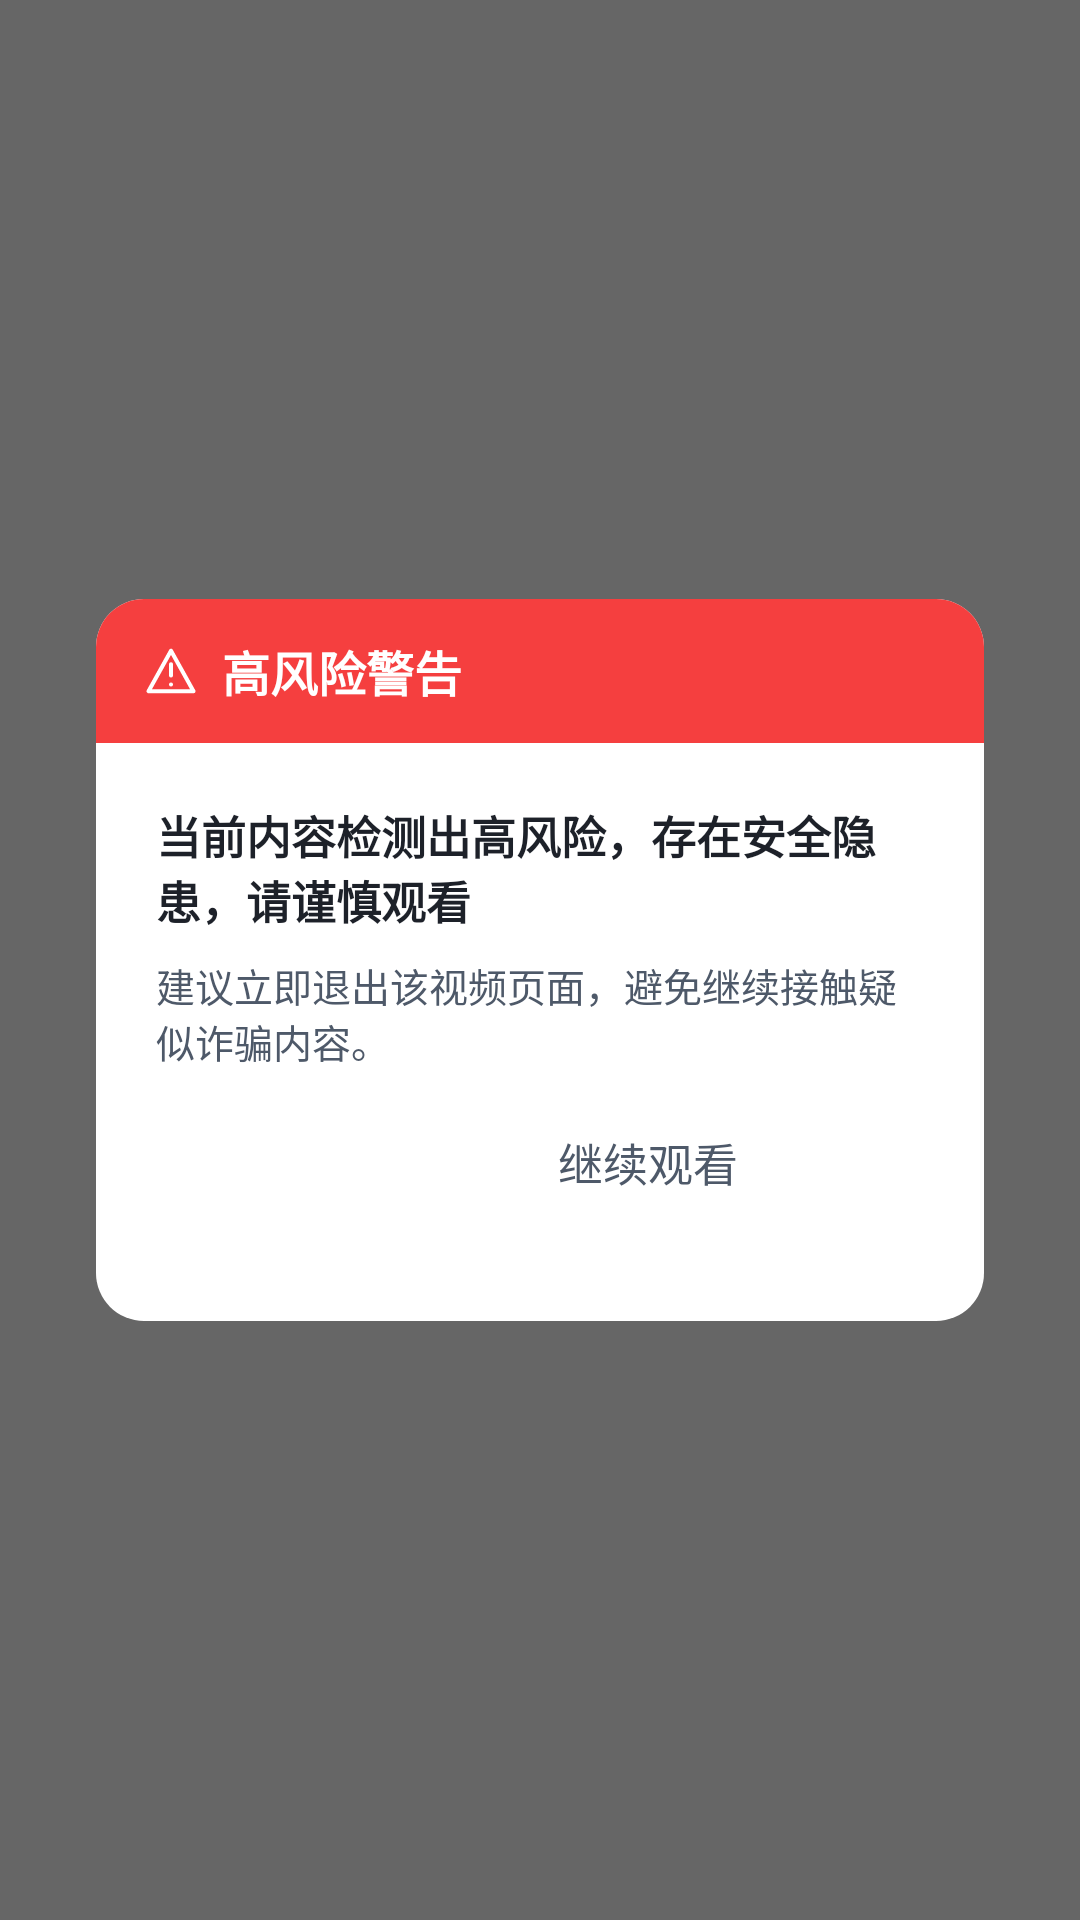

Named icons in this screenshot (1080px×1920px) and their centers, (x,y):
warning: (171,671)
